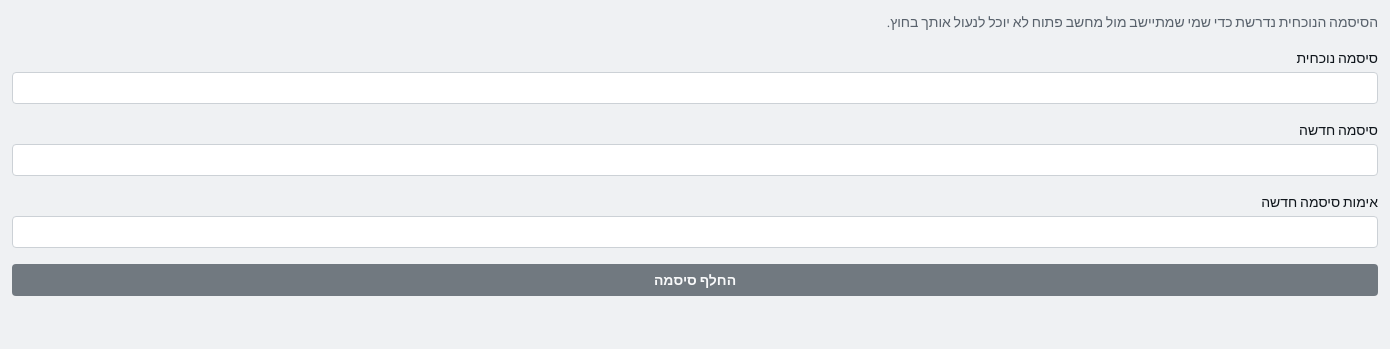
Test: טופס החלפת סיסמה › בהצלחה: אישור מוצג והשדות מתרוקנים
Type "yashan-123" into the password field labelled "סיסמה נוכחית". click: (695, 88)
box: [12,72,1378,104]
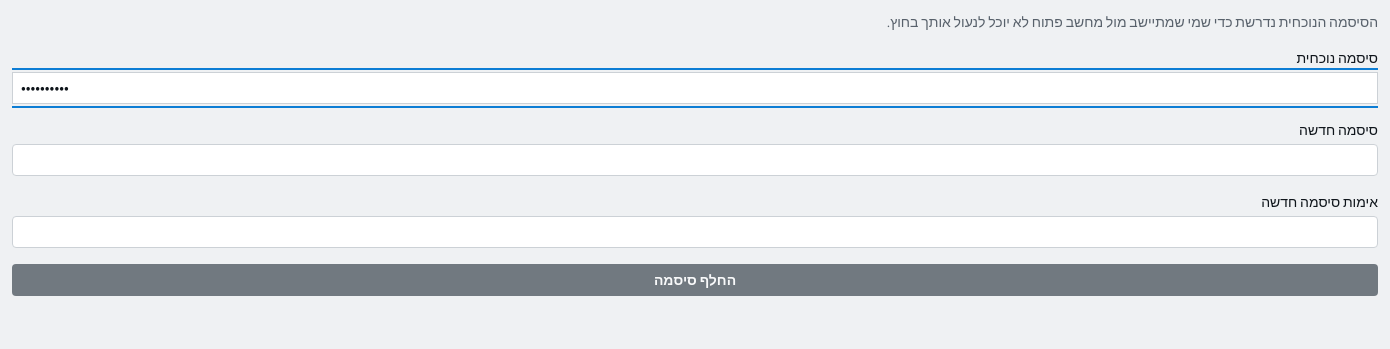
Type "chadash-456" into the password field labelled "סיסמה חדשה". click: (695, 160)
box: [12,144,1378,176]
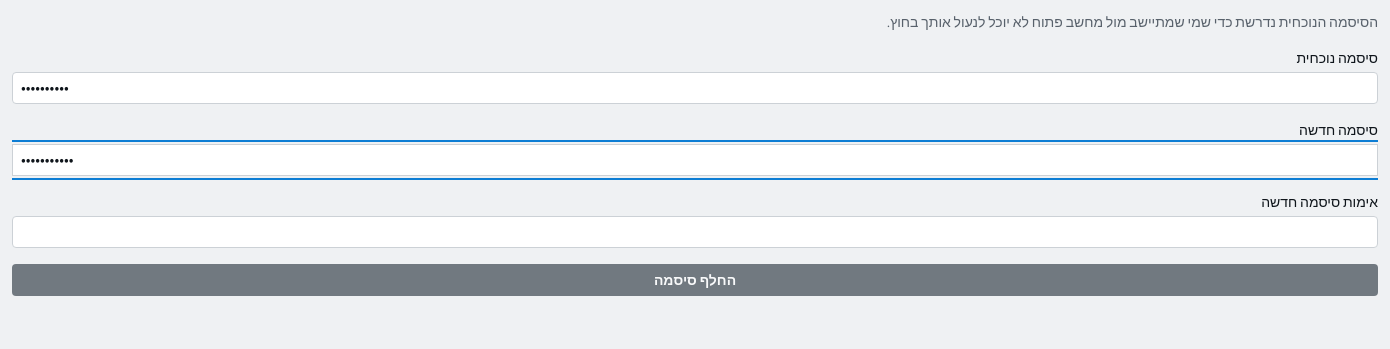
Type "chadash-456" into the password field labelled "אימות סיסמה חדשה". click: (695, 232)
box: [12,216,1378,248]
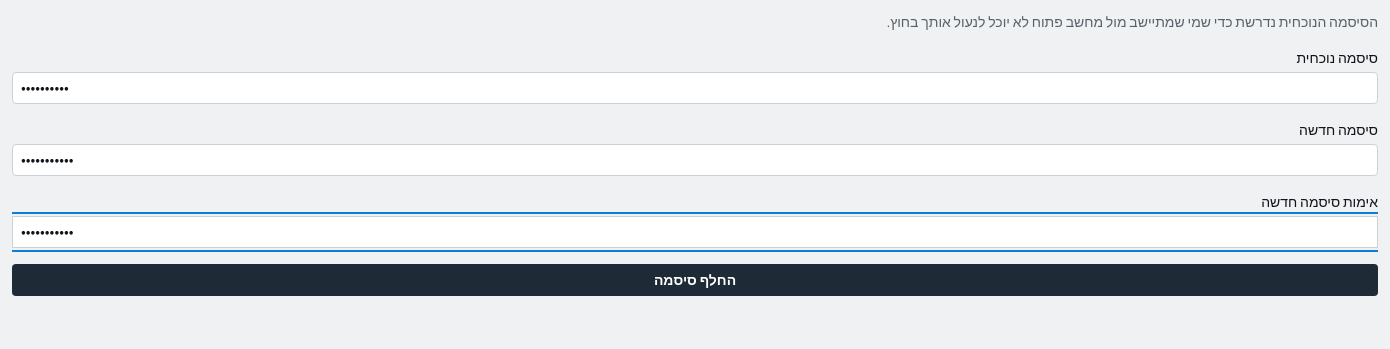
Click the button "החלף סיסמה". click: (695, 280)
box: [12,264,1378,296]
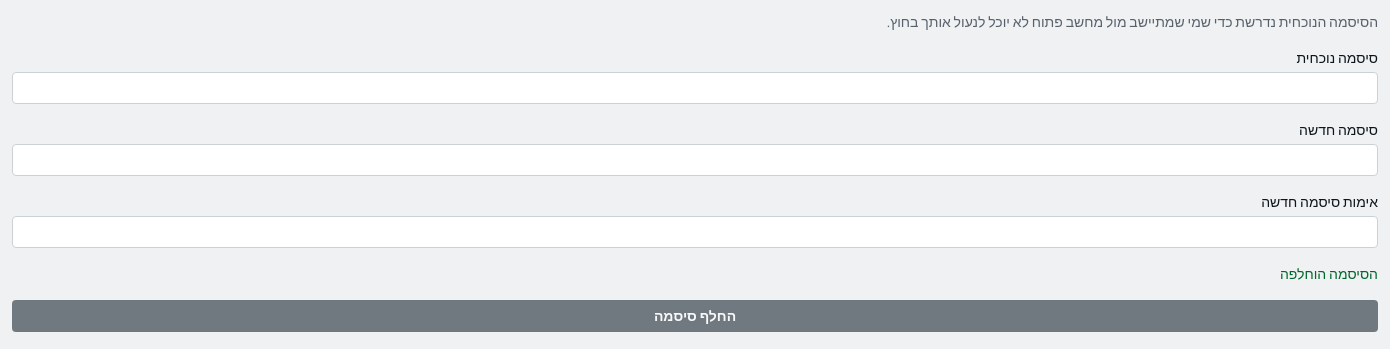
expect the text "הסיסמה הוחלפה" is shown: met, box [1280,265,1378,283]
expect the password field labelled "סיסמה נוכחית" is empty: met, box [12,72,1378,104]
expect the password field labelled "סיסמה חדשה" is empty: met, box [12,144,1378,176]
